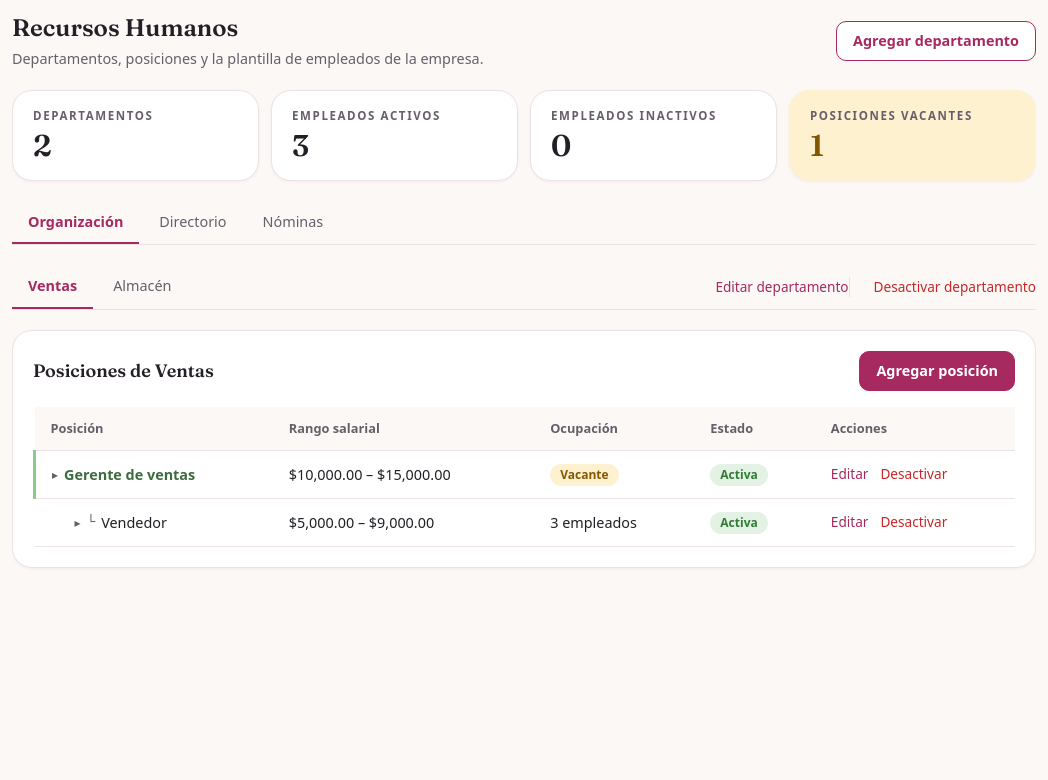
Test: RRHH › al hacer click en una posición se despliega la lista de empleados, 5 por default
What coordinates should you click on to do the following:
click the text "Vendedor"
I would click on:
 (134, 523)
Its box is [101,512,167,534].
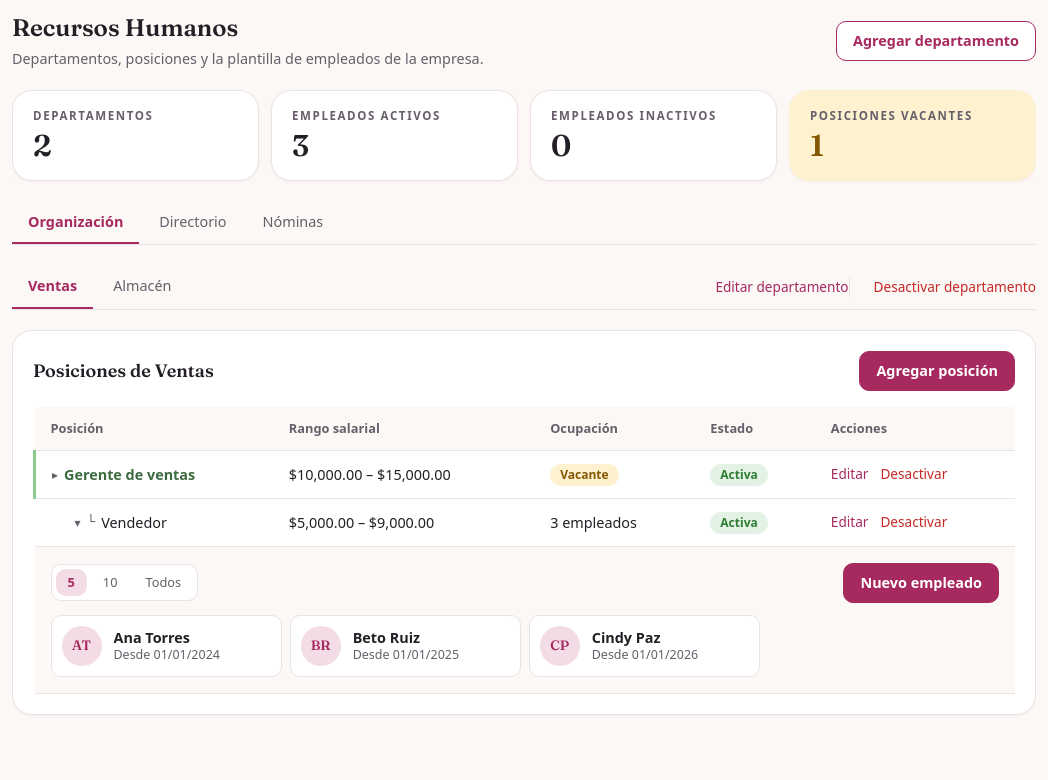
Expected: the text "Ana Torres" is shown, [114,628,190,647]
Expected: the text "Beto Ruiz" is shown, [353,628,420,647]
Expected: the text "Cindy Paz" is shown, [592,628,661,647]
